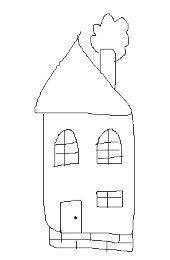closed_window: (93, 123, 124, 172), (49, 127, 81, 174), (92, 184, 129, 213)
door: (55, 194, 86, 237)
roof: (18, 29, 141, 121)
smoking_chimney: (83, 6, 135, 94)
wall: (38, 107, 137, 239)
